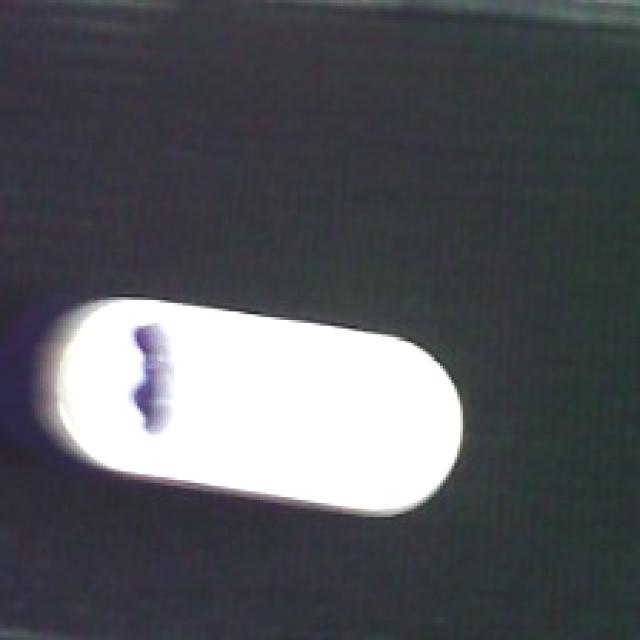defected: (23, 300, 468, 523)
